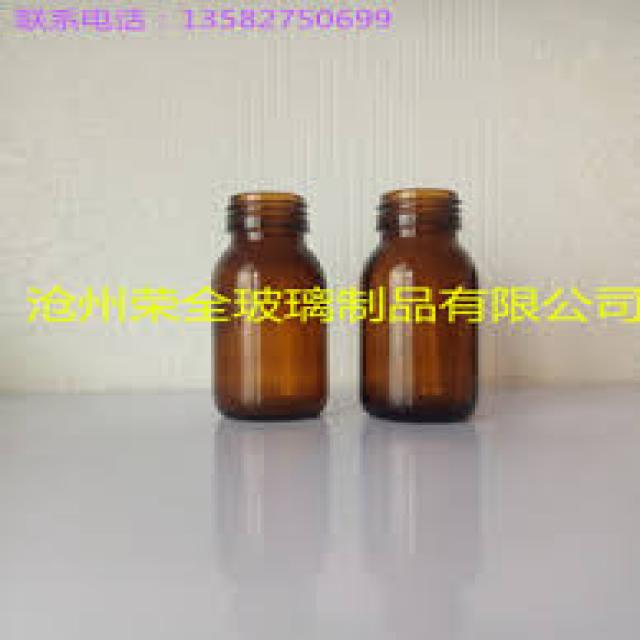glass: (350, 188, 475, 420), (208, 190, 327, 420)
